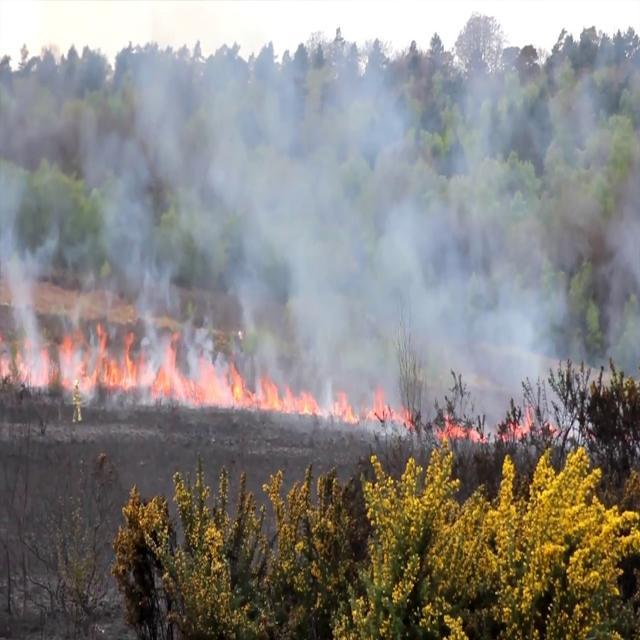Fire: (0, 321, 416, 431), (500, 404, 560, 444), (434, 412, 488, 447)
Smoke: (1, 42, 640, 456)
